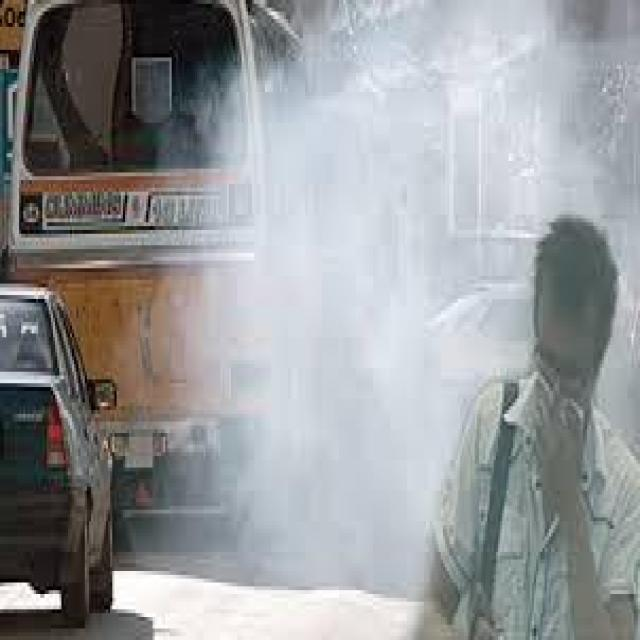Smoke: (180, 75, 418, 582), (440, 24, 632, 171)
